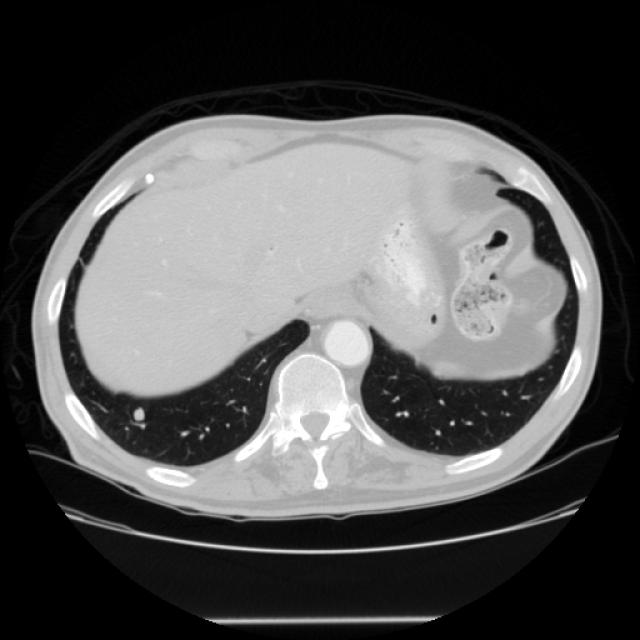nodule: (121, 398, 154, 430)
